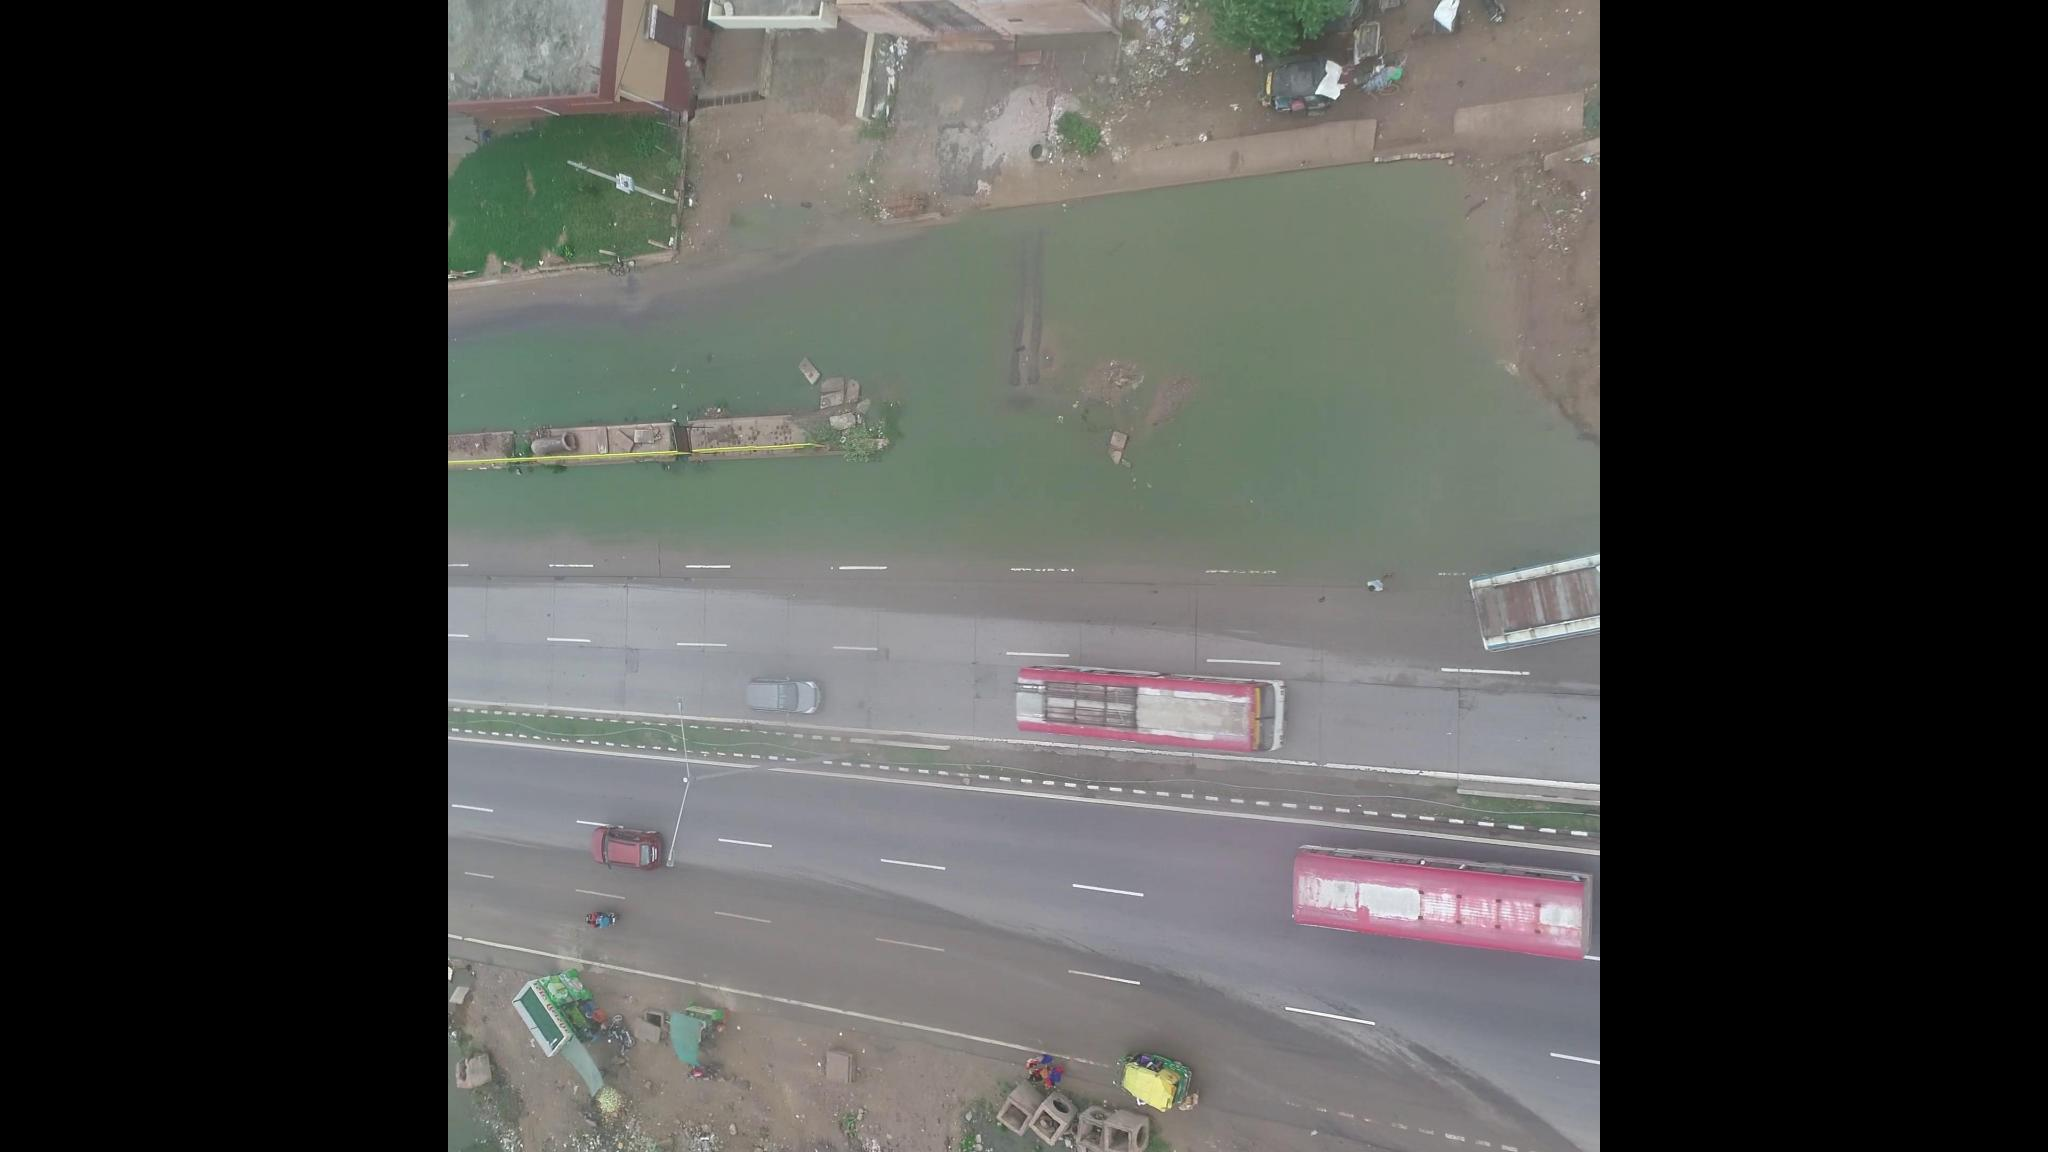Waterlogging: (847, 212, 1452, 549), (475, 288, 813, 428), (459, 466, 798, 564)
